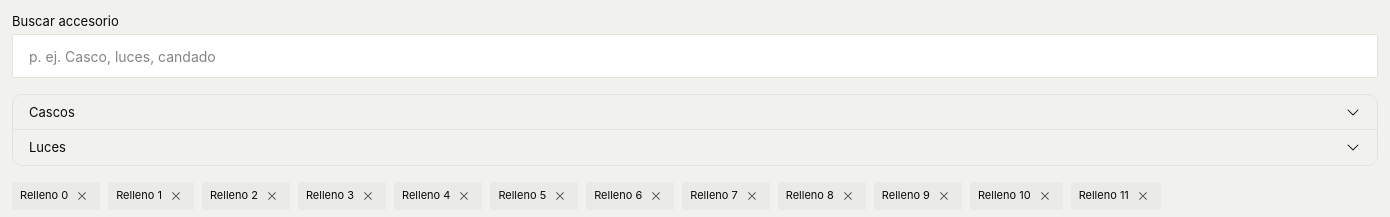
Scenario: RelatedAccessoriesPicker › disables adding once MAX_RELATED_ACCESSORIES is reached
The width and height of the screenshot is (1390, 217).
Type "casco" into the field labelled "Buscar accesorio".
click(695, 56); type("casco")  # box [12,34,1378,78]
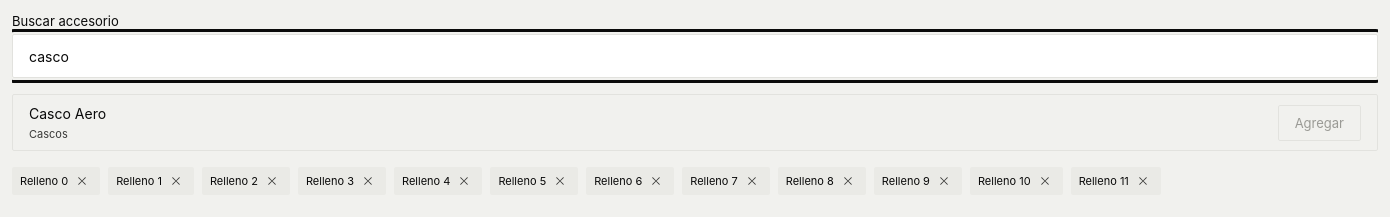
Expected: the text "Casco Aero" is shown, [29,103,106,126]
Expected: the button named "Agregar" is disabled, [1278,105,1361,141]
